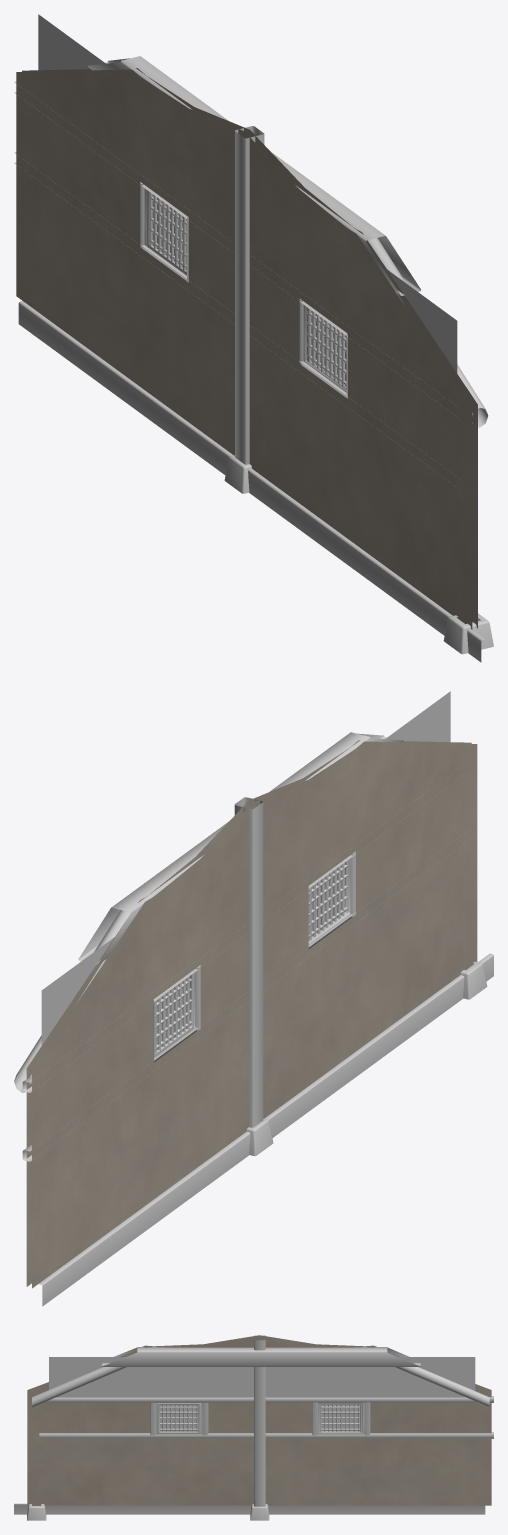
The model's file is WoodcutHanok_X-.fbx.
The picture shows the model from 3 angles, top to bottom: view 1: azimuth 30°, elevation 25°; view 2: azimuth 150°, elevation 25°; view 3: azimuth 270°, elevation 25°; orthographic projection. The views are drawn at different scales.
Parts seen in each view (by area): view 1: PlasterWall_015.002, StoneCastle003.003, WoodOil.002, WoodOil.004, WoodChang, WindowFrame.002, Glass_015.002; view 2: PlasterWall_015.002, StoneCastle003.003, WoodOil.002, WoodOil.004, WoodChang, WindowFrame.002, Glass_015.002; view 3: PlasterWall_015.002, WoodChang, WoodOil.002, WoodOil.004, StoneCastle003.003, WindowFrame.002, Glass_015.002.
Boxes of the visible parts, left/top/right/bottom form: PlasterWall_015.002: left=16, top=68, right=477, bottom=629; StoneCastle003.003: left=18, top=301, right=493, bottom=662; WoodOil.002: left=14, top=81, right=347, bottom=464; WoodOil.004: left=88, top=56, right=488, bottom=427; WoodChang: left=38, top=14, right=457, bottom=373; WindowFrame.002: left=149, top=192, right=346, bottom=387; Glass_015.002: left=152, top=194, right=346, bottom=386; PlasterWall_015.002: left=26, top=740, right=477, bottom=1288; StoneCastle003.003: left=39, top=953, right=493, bottom=1306; WoodOil.002: left=22, top=797, right=355, bottom=1161; WoodOil.004: left=14, top=732, right=403, bottom=1092; WoodChang: left=41, top=691, right=450, bottom=1045; WindowFrame.002: left=155, top=863, right=347, bottom=1053; Glass_015.002: left=156, top=863, right=344, bottom=1050; PlasterWall_015.002: left=27, top=1335, right=491, bottom=1505; WoodChang: left=49, top=1357, right=475, bottom=1397; WoodOil.002: left=39, top=1335, right=493, bottom=1506; WoodOil.004: left=32, top=1347, right=489, bottom=1407; StoneCastle003.003: left=14, top=1503, right=485, bottom=1520; WindowFrame.002: left=160, top=1404, right=359, bottom=1431; Glass_015.002: left=160, top=1404, right=359, bottom=1431.
Size of the model in its own units: 41.4 by 425 by 1025.
